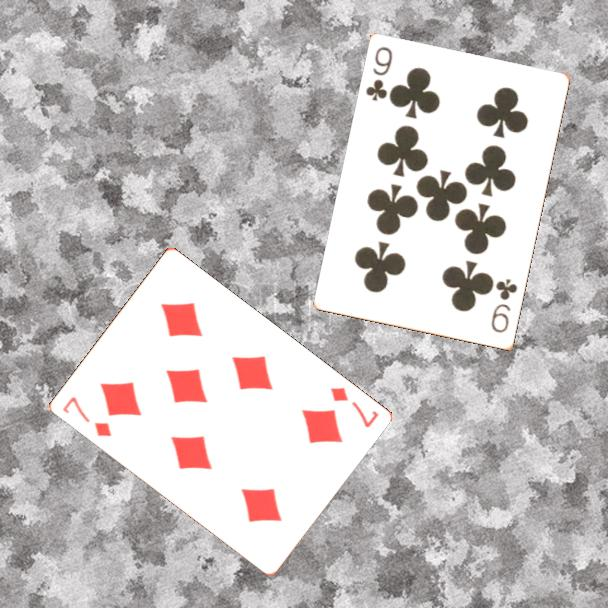c09: (362, 43, 396, 105), (488, 275, 520, 336)
d07: (58, 393, 114, 440), (326, 384, 381, 431)
